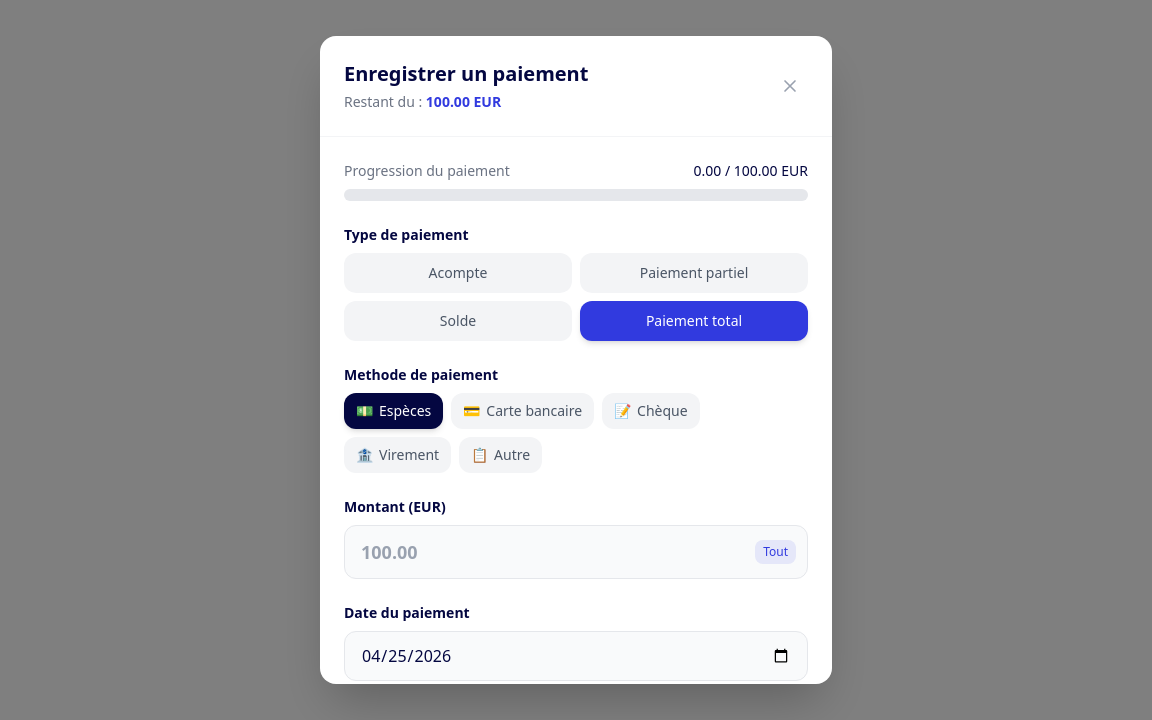
Test: PaymentModal › shows error when amount is zero
Type "0" into the number field with placeholder "100.00" at coordinates (576, 552), box [344,525,808,579]
(page scrolled)
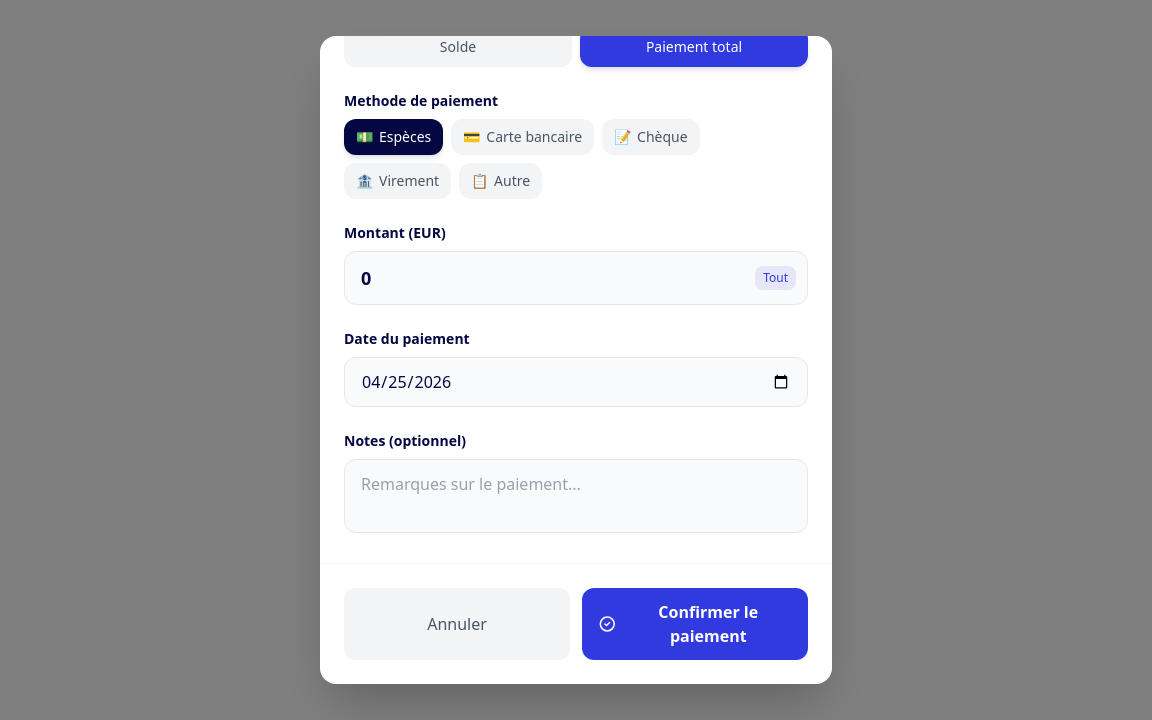
Click the button "Confirmer le paiement" at coordinates (695, 624), box [582,588,808,660]
(page scrolled)
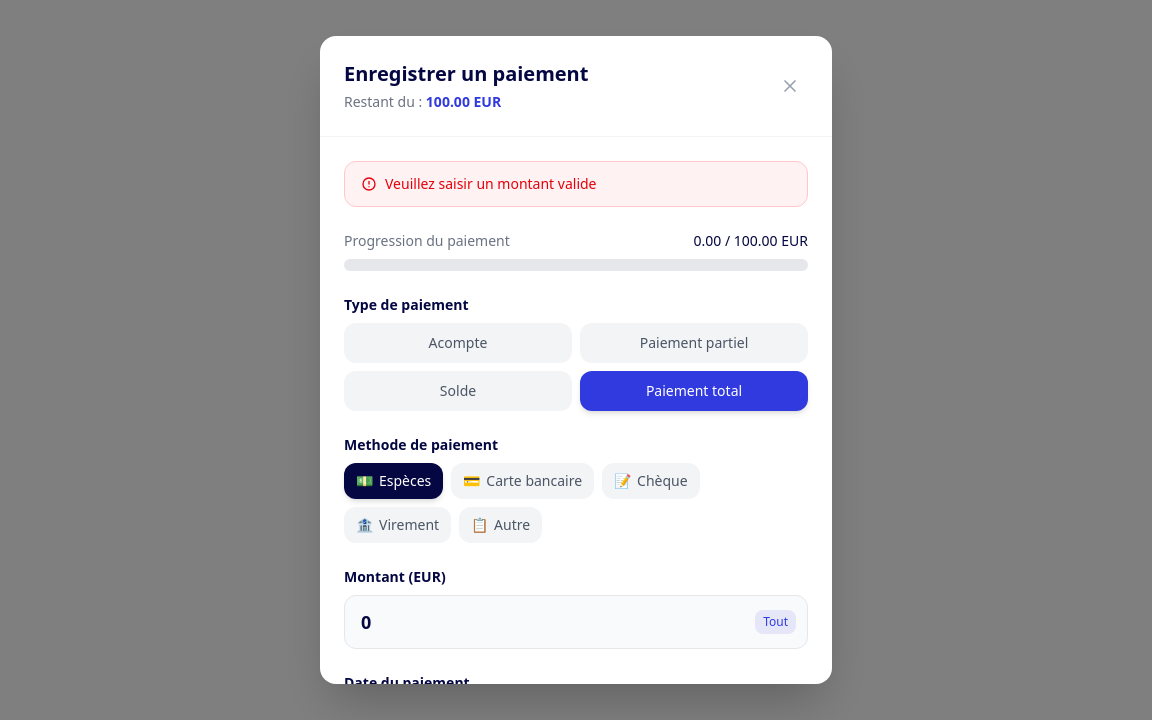
Now the text "Veuillez saisir un montant valide" is shown, box [344,161,808,207]
